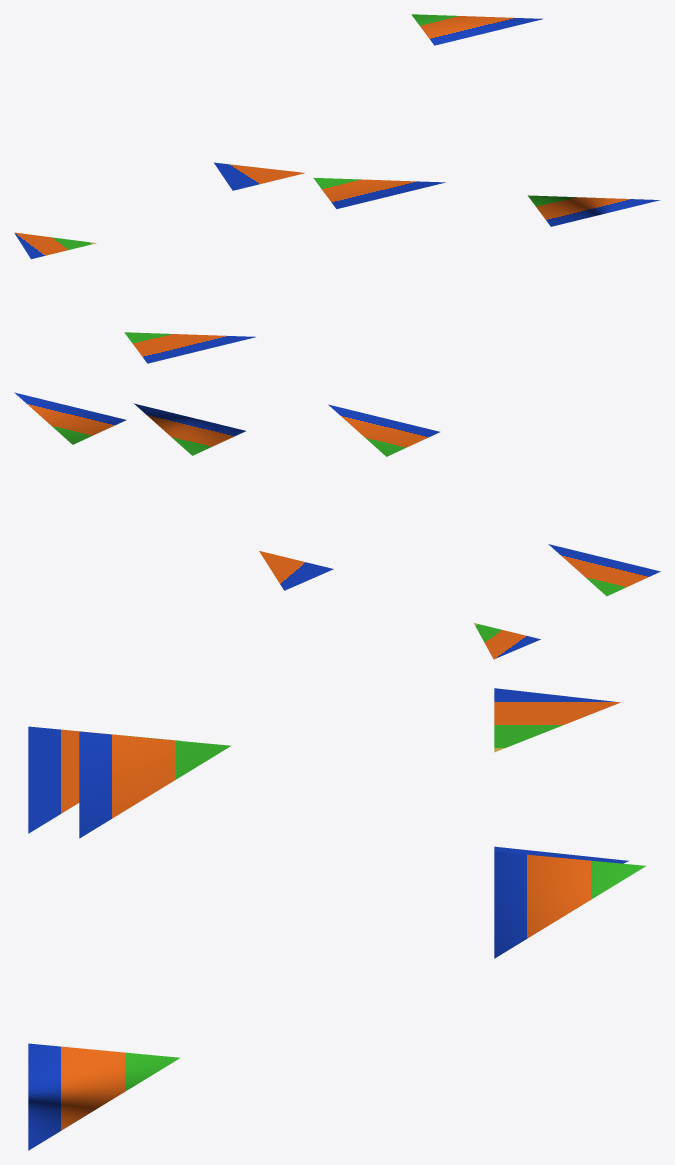
The model's file is model-native-export.glb.
3 views of the same model, one above another, from view 1: azimuth 30°, elevation 25°; view 2: azimuth 150°, elevation 25°; view 3: azimuth 270°, elevation 25° (orthographic). The views are drawn at different scales.
Parts seen in each view (by area): view 1: AnalyticMixedUVFixture; view 2: AnalyticMixedUVFixture; view 3: AnalyticMixedUVFixture.
Part boxes in pixels (x1,y1,x2,y2): AnalyticMixedUVFixture: (14, 14, 660, 363); AnalyticMixedUVFixture: (14, 392, 660, 659); AnalyticMixedUVFixture: (28, 688, 645, 1150).
Bounding box in the file's own units: 0.14 × 0.035 × 0.073.
Materials: 3 (3 with a texture image).
